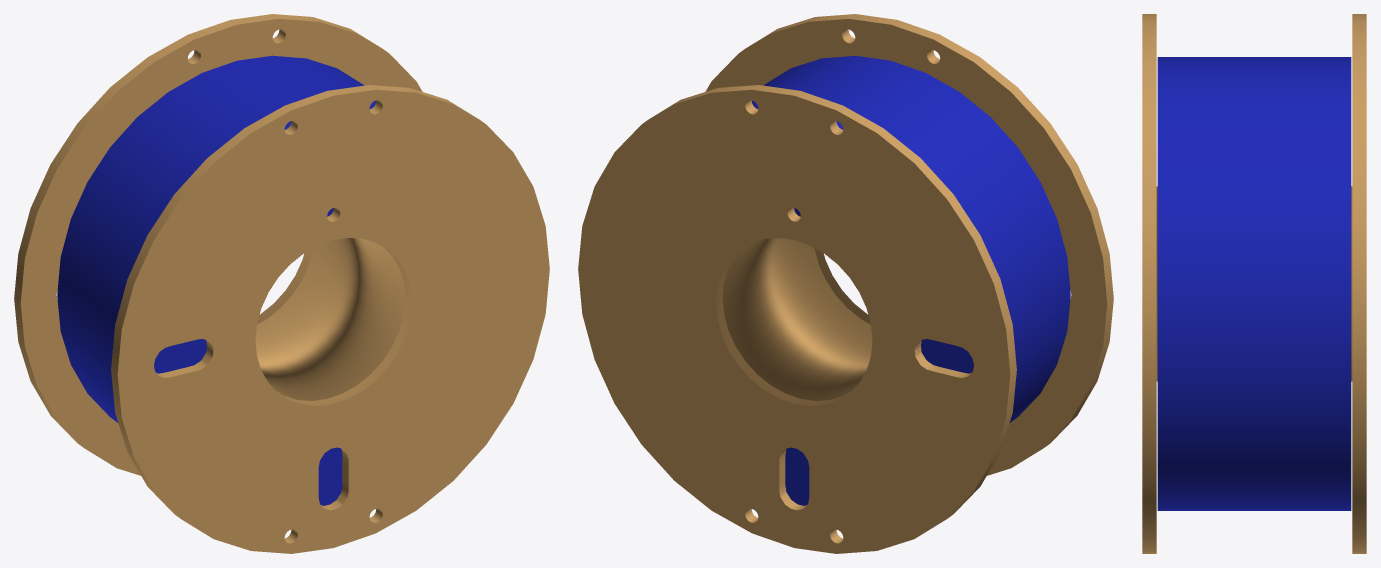
The model's file is PLABlue.glb.
3 renders of one model, left to right at view 1: azimuth 30°, elevation 25°; view 2: azimuth 150°, elevation 25°; view 3: azimuth 270°, elevation 25°, orthographic. The views are drawn at different scales.
Parts seen in each view (by area): view 1: PLA Blue; view 2: PLA Blue; view 3: PLA Blue.
Boxes of the visible parts, x1,y1,x2,y2 form: PLA Blue: (14,14,549,553); PLA Blue: (578,14,1113,553); PLA Blue: (1142,14,1366,553).
Bounding box in the file's own units: 1.27 × 1.27 × 0.5262.
3 materials, 1 textured.
